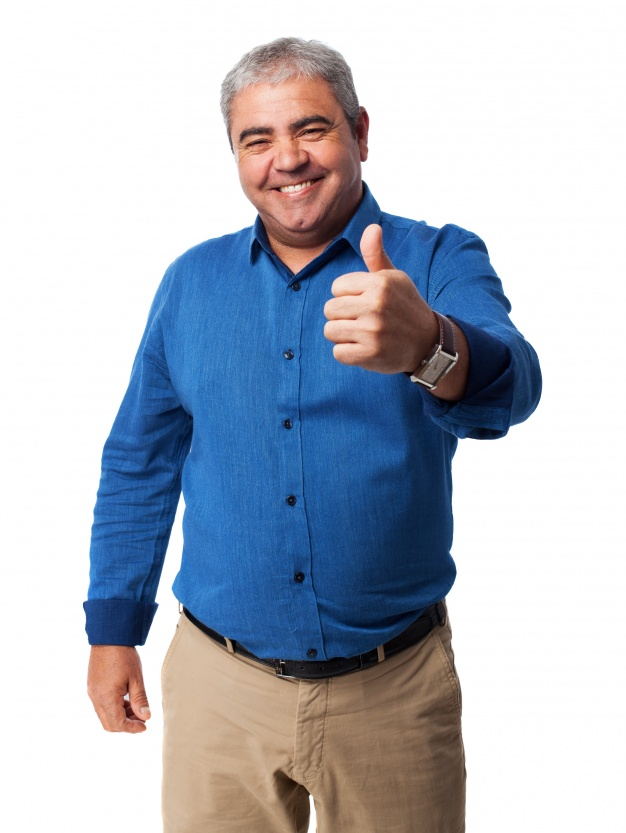thumbsup: (323, 222, 395, 368)
